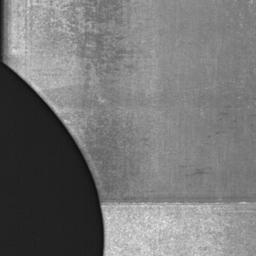Crescent gap: (4, 63, 104, 256)
